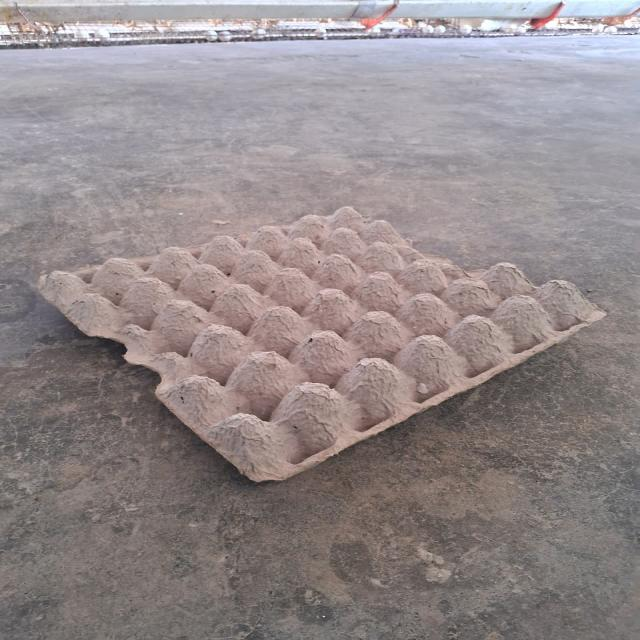egg_tray: (40, 208, 603, 480)
